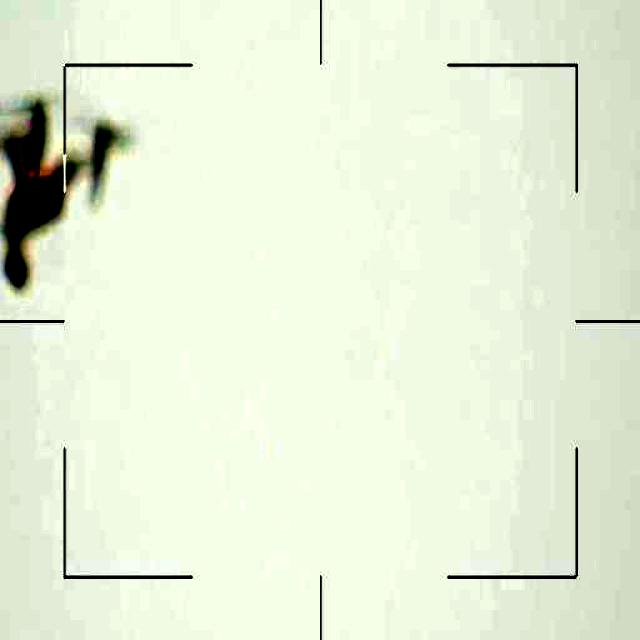bird: (0, 88, 142, 290)
